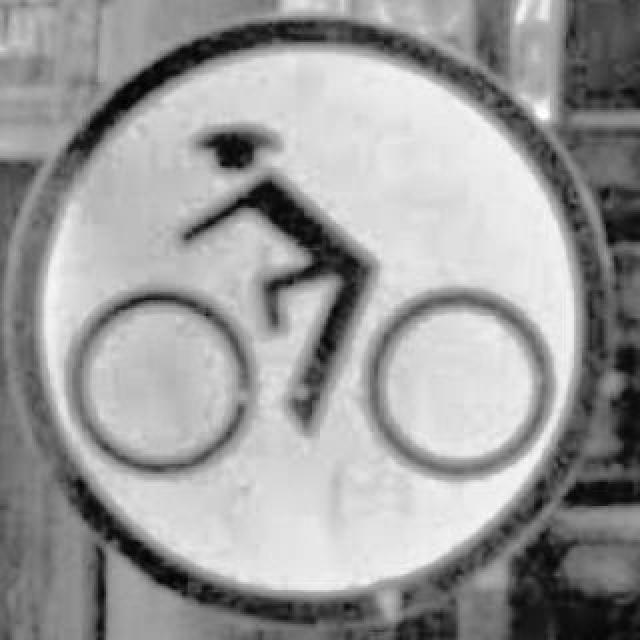bike lane: (6, 14, 610, 614)
